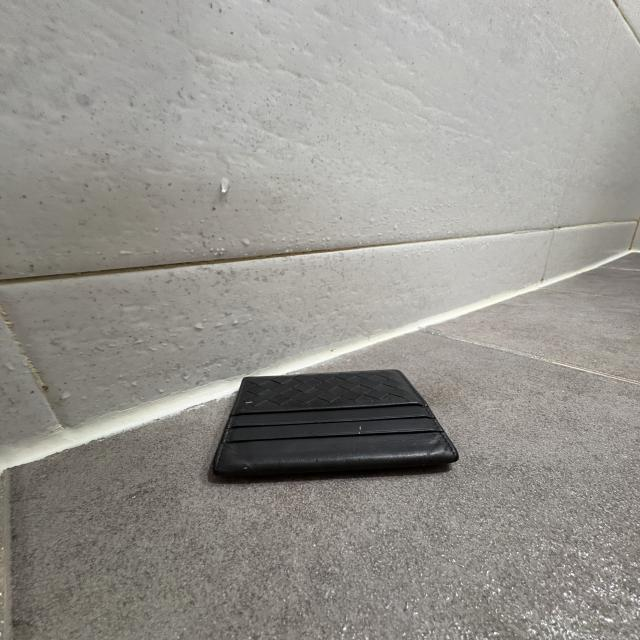wallet: (208, 366, 460, 486)
